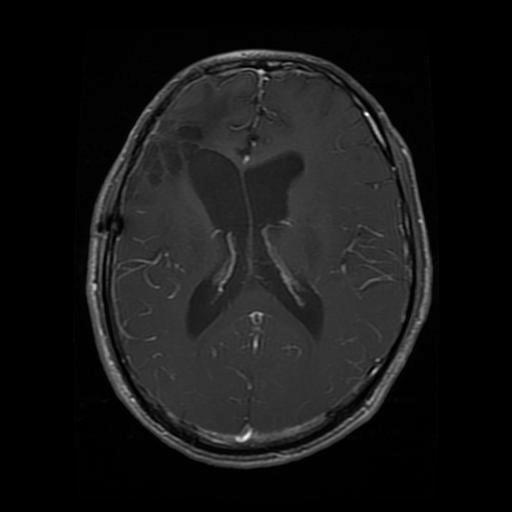Tumour-Glioma: (138, 115, 235, 186)
